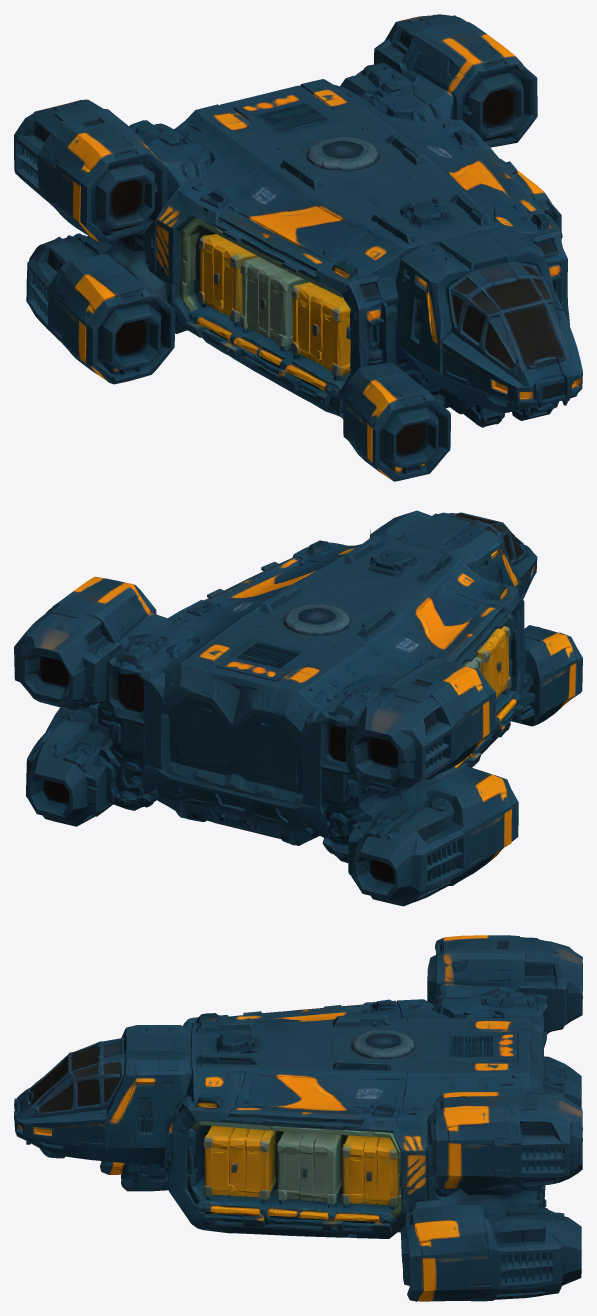
Rendered from source.glb.
3 renders of one model, top to bottom at view 1: azimuth 30°, elevation 25°; view 2: azimuth 150°, elevation 25°; view 3: azimuth 270°, elevation 25°, orthographic. The views are drawn at different scales.
Visible parts, largest first — view 1: model; view 2: model; view 3: model.
Boxes of the visible parts, <box> form: model: <box>14,14,582,481</box>; model: <box>14,510,582,906</box>; model: <box>14,935,582,1301</box>.
Bounding box in the file's own units: 1.57 × 0.7018 × 1.9.
1 material, 1 textured.
